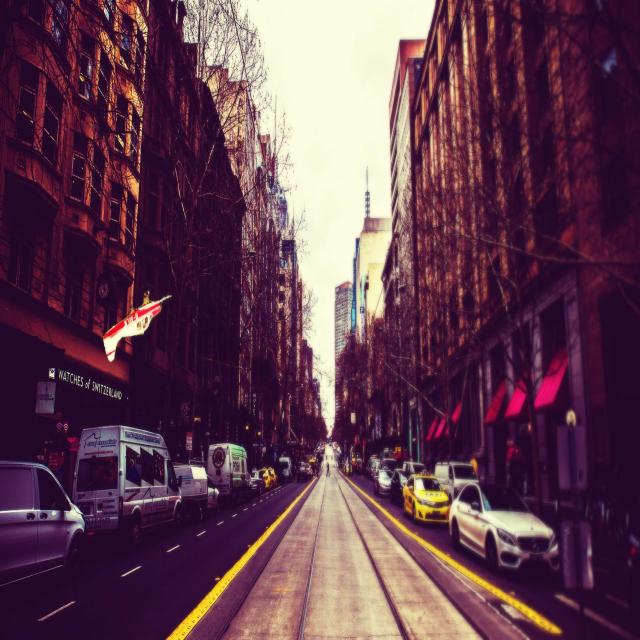airplane: (102, 290, 171, 364)
